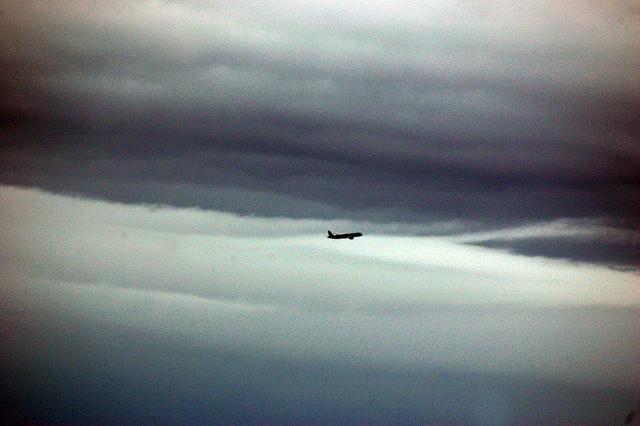airplane: (319, 226, 372, 244)
